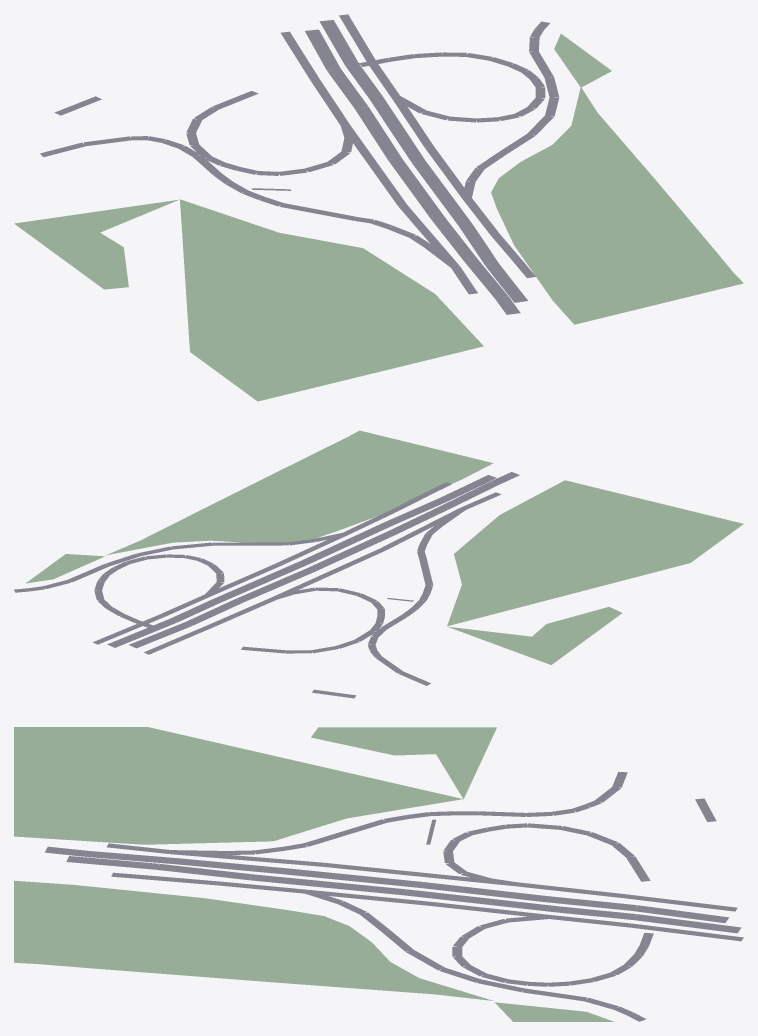
The model's file is 94_104_mid.glb.
3 renders of one model, top to bottom at view 1: azimuth 30°, elevation 25°; view 2: azimuth 150°, elevation 25°; view 3: azimuth 270°, elevation 25°, orthographic. The views are drawn at different scales.
Size of the model in its own units: 502 by 8.56 by 526.
